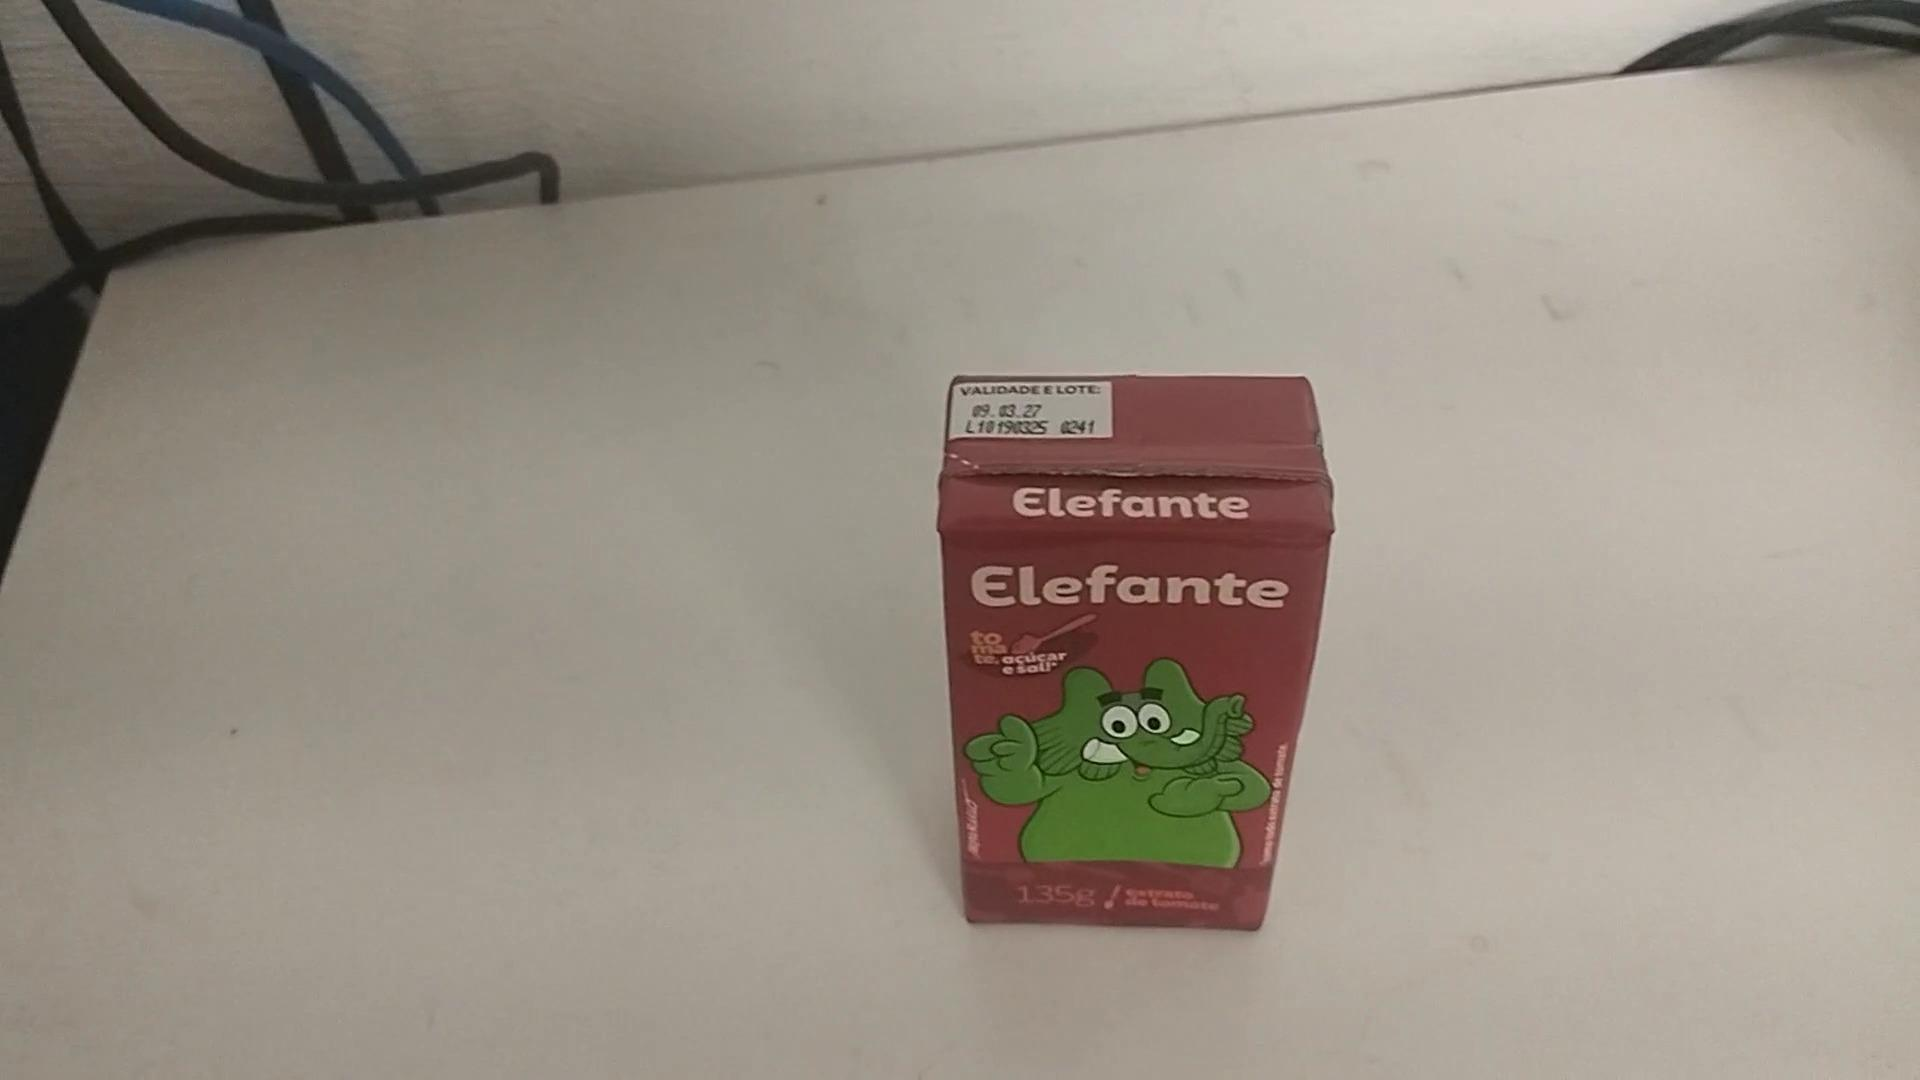tomate: (920, 363, 1337, 931)
